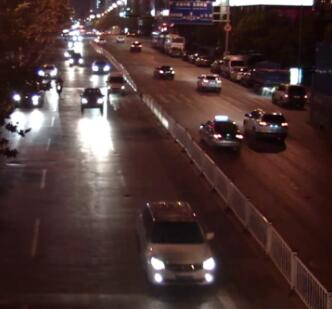bus: (155, 31, 185, 55), (151, 30, 160, 47)
car: (133, 200, 216, 292), (198, 113, 243, 151), (240, 109, 290, 143), (251, 58, 291, 94), (270, 83, 308, 109), (10, 84, 45, 109), (78, 86, 105, 112), (219, 54, 246, 77), (105, 70, 127, 97), (35, 61, 58, 82), (196, 73, 221, 92), (228, 64, 250, 83), (91, 57, 111, 76), (153, 64, 176, 80), (68, 51, 84, 66), (193, 54, 210, 67), (210, 58, 224, 73), (128, 39, 143, 52), (62, 48, 75, 61), (94, 34, 107, 45), (188, 52, 198, 64), (115, 33, 126, 43)
